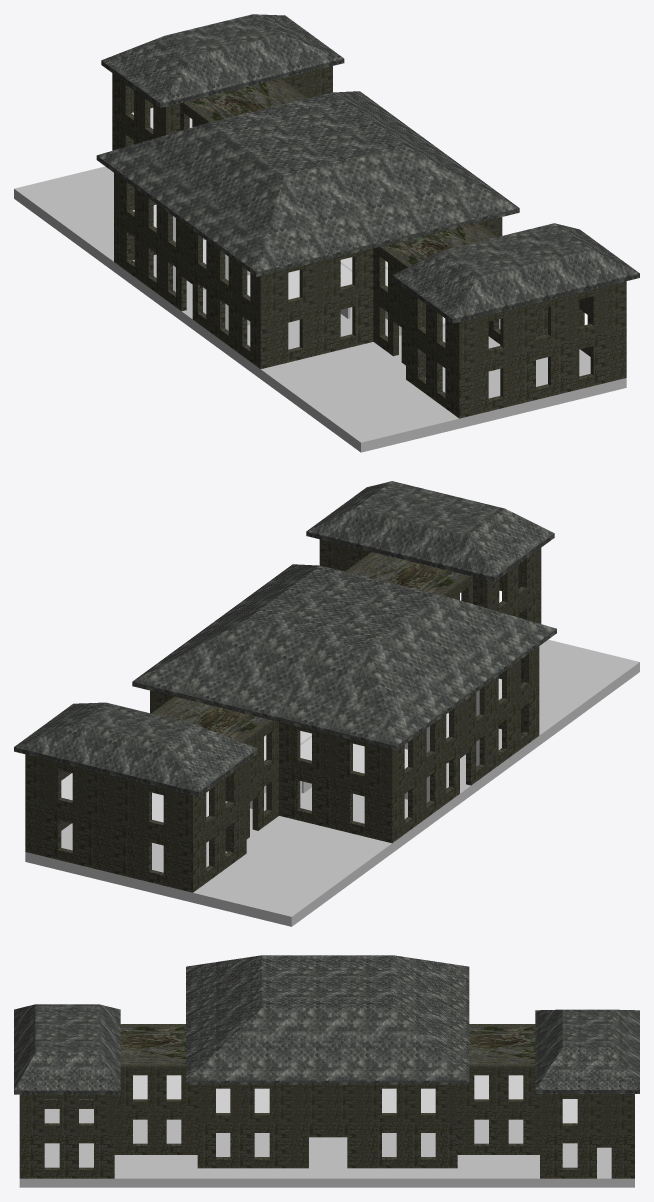
Rendered from ACTUALDeadline_House.fbx.
3 views of the same model, one above another, from view 1: azimuth 30°, elevation 25°; view 2: azimuth 150°, elevation 25°; view 3: azimuth 270°, elevation 25° (orthographic). The views are drawn at different scales.
Parts seen in each view (by area): view 1: Roof Middle, (1st)Exterior Walls.001, (G)Exterior Walls, Ground, Roof Side Left, Roof Side Right, Cube.018, Cube.017, Cube; view 2: Roof Middle, (1st)Exterior Walls.001, (G)Exterior Walls, Ground, Roof Side Left, Roof Side Right, Cube.017, Cube.018, Cube.006, Cube.001; view 3: Roof Middle, (G)Exterior Walls, (1st)Exterior Walls.001, Ground, Roof Side Left, Roof Side Right, Cube.018, Cube.017, Cube.003, Cube.005, Cube.007, Cube.004 (+1 smaller).
Boxes of the visible parts, bbox=[...] form: Roof Middle: bbox=[96, 91, 519, 276]; (1st)Exterior Walls.001: bbox=[112, 66, 626, 368]; (G)Exterior Walls: bbox=[112, 115, 626, 418]; Ground: bbox=[14, 166, 626, 452]; Roof Side Left: bbox=[392, 223, 639, 323]; Roof Side Right: bbox=[101, 14, 344, 107]; Cube.018: bbox=[189, 80, 301, 120]; Cube.017: bbox=[386, 224, 491, 264]; Cube: bbox=[228, 264, 352, 299]; Roof Middle: bbox=[132, 564, 556, 750]; (1st)Exterior Walls.001: bbox=[25, 539, 541, 842]; (G)Exterior Walls: bbox=[25, 580, 541, 892]; Ground: bbox=[25, 639, 639, 926]; Roof Side Left: bbox=[306, 481, 554, 581]; Roof Side Right: bbox=[14, 702, 257, 796]; Cube.017: bbox=[351, 553, 463, 593]; Cube.018: bbox=[157, 698, 266, 740]; Cube.006: bbox=[61, 773, 227, 822]; Cube.001: bbox=[300, 737, 407, 773]; Roof Middle: bbox=[186, 955, 469, 1084]; (G)Exterior Walls: bbox=[19, 1099, 634, 1178]; (1st)Exterior Walls.001: bbox=[19, 1024, 634, 1134]; Ground: bbox=[19, 1109, 634, 1187]; Roof Side Left: bbox=[14, 1004, 120, 1094]; Roof Side Right: bbox=[535, 1009, 639, 1093]; Cube.018: bbox=[469, 1026, 535, 1063]; Cube.017: bbox=[120, 1026, 185, 1063]; Cube.003: bbox=[216, 1088, 269, 1112]; Cube.005: bbox=[133, 1075, 181, 1099]; Cube.007: bbox=[474, 1075, 523, 1099]; Cube.004: bbox=[382, 1088, 435, 1112].
Size of the model in its own units: 6007 by 3233 by 12812.
